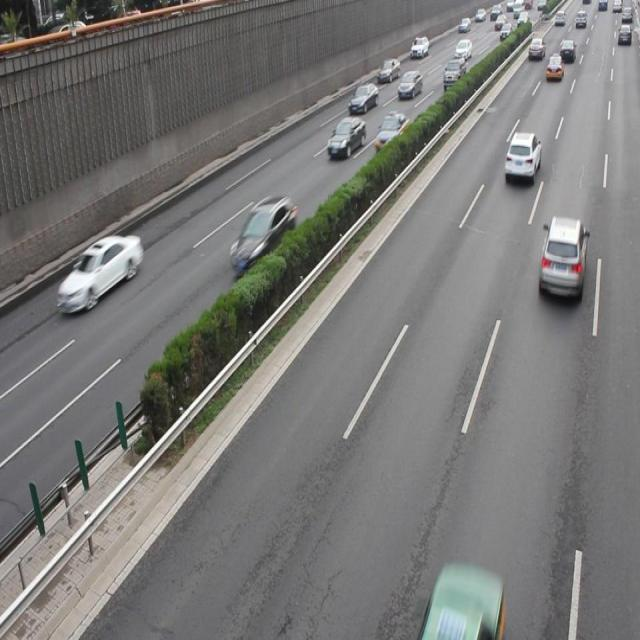car: (57, 231, 142, 315), (417, 560, 501, 640), (228, 194, 296, 273), (537, 213, 586, 300), (503, 130, 540, 184), (326, 116, 365, 159), (373, 113, 409, 154), (347, 82, 378, 116)
